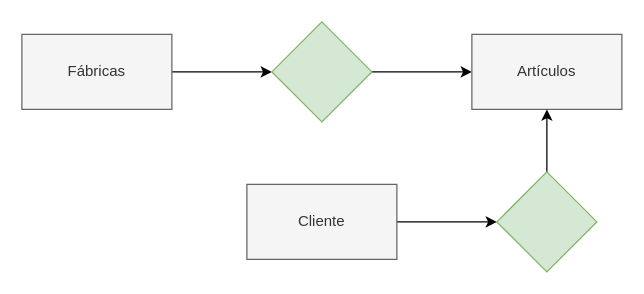
Some shapes in this 644 by 294 pixel diagram are drawn without their labels. Here are the shapes that lost their labels. From the top down, the box of each, then its label:
(271, 21, 372, 122): fabrican
(496, 171, 597, 272): pide
